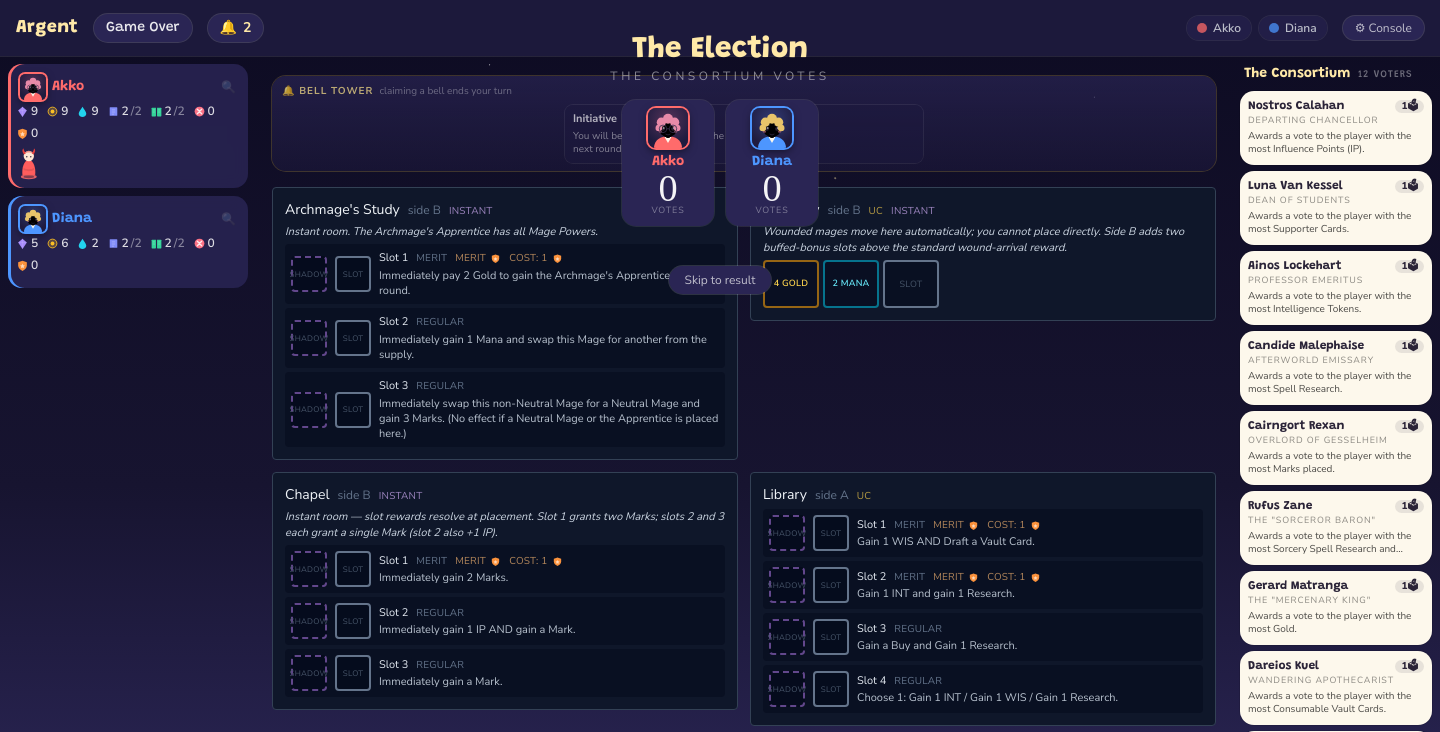
Scenario: Scoring ceremony (step-6 smoke) › reveals voter awards and crowns the archmage on a completed game
Check: the heading "The Election" is shown, box [632,32,808,68]
// Skip the staged reveal straight to the finale.
Click the button "Skip to result": (720, 280) [668,266,771,294]
(page scrolled)
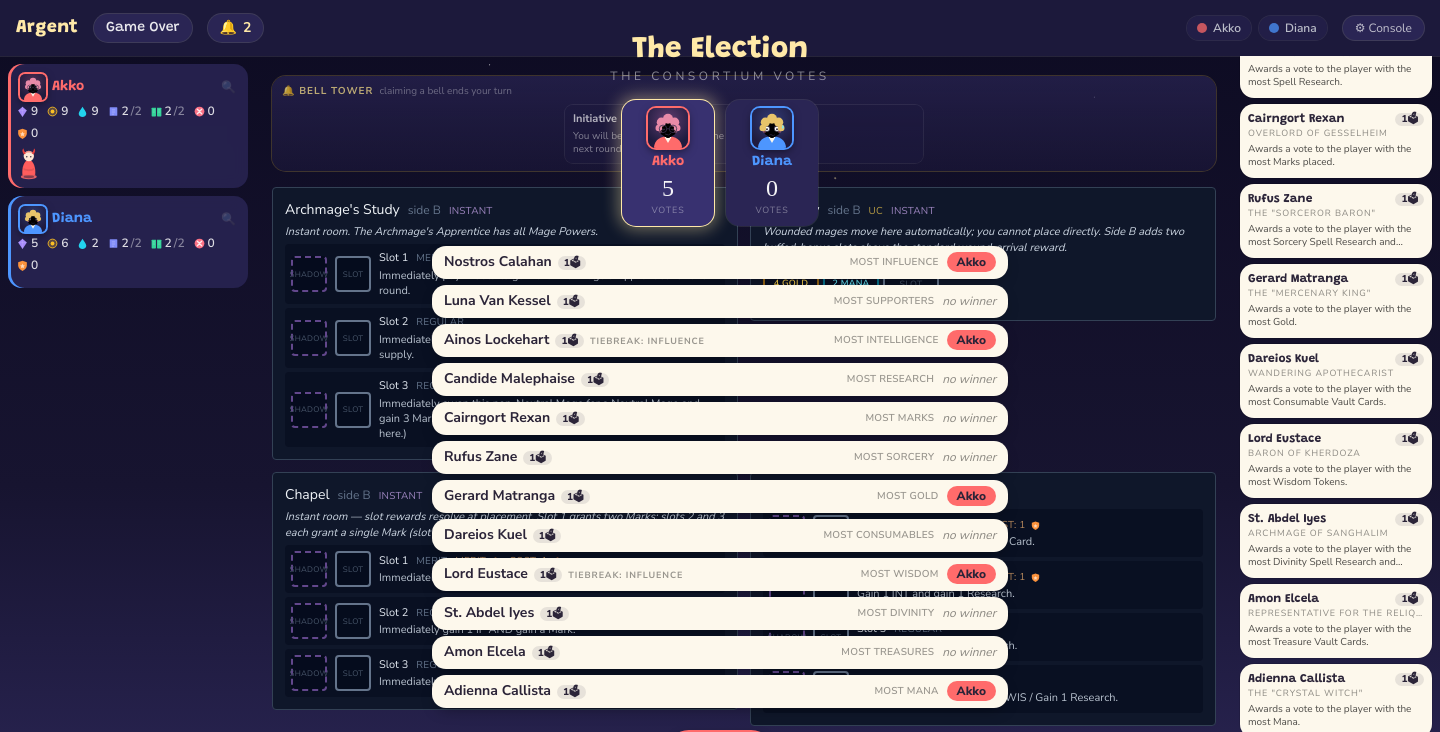
Check: the text "St. Abdel Iyes" is shown, box [1248,513,1326,525]
Check: the text "Amon Elcela" is shown, box [1248,593,1319,605]
Check: the text "Adienna Callista" is shown, box [1248,673,1345,685]
